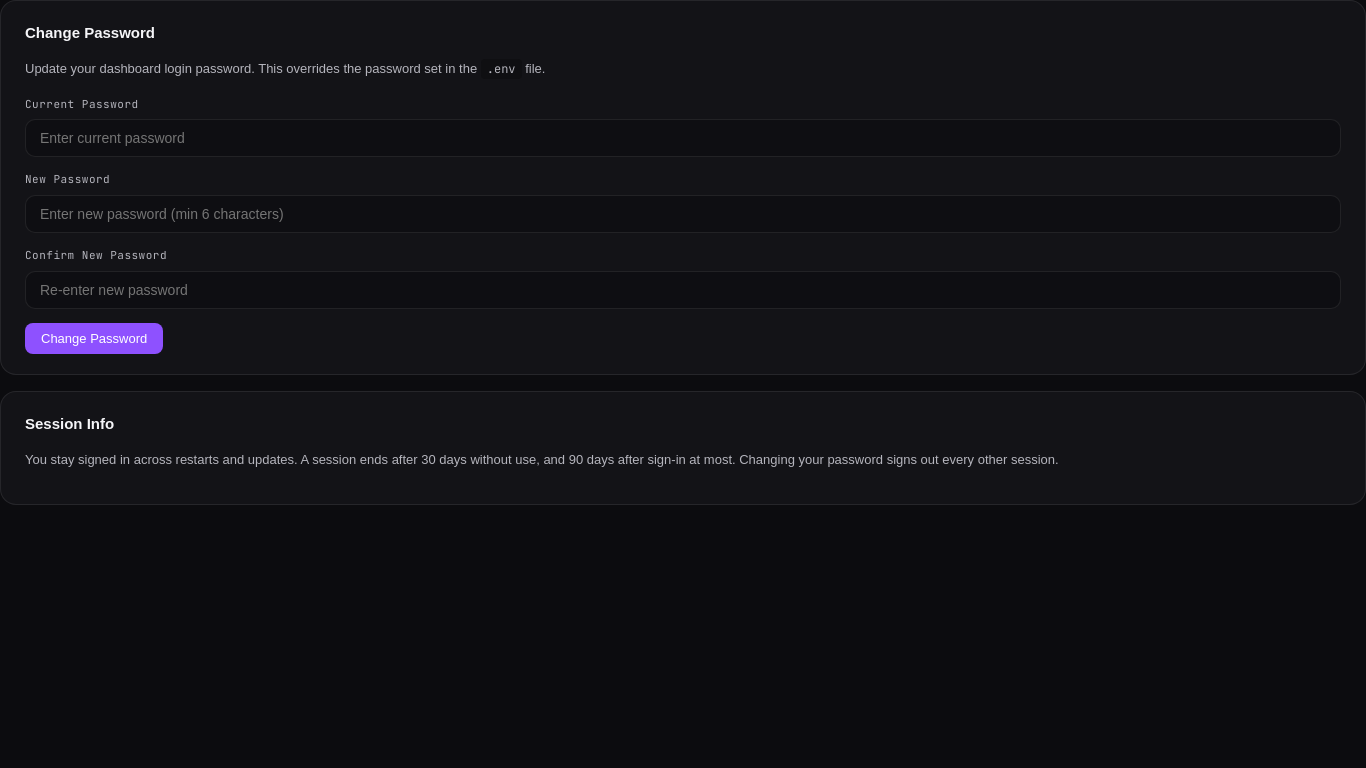
Test: SecurityTab change password › says the status for a refusal that is not JSON, not a parse error
This screenshot has width=1366, height=768.
Type "oldpass1" into the password field labelled "Current Password".
click(683, 138); type("oldpass1")  # box [25, 119, 1341, 157]
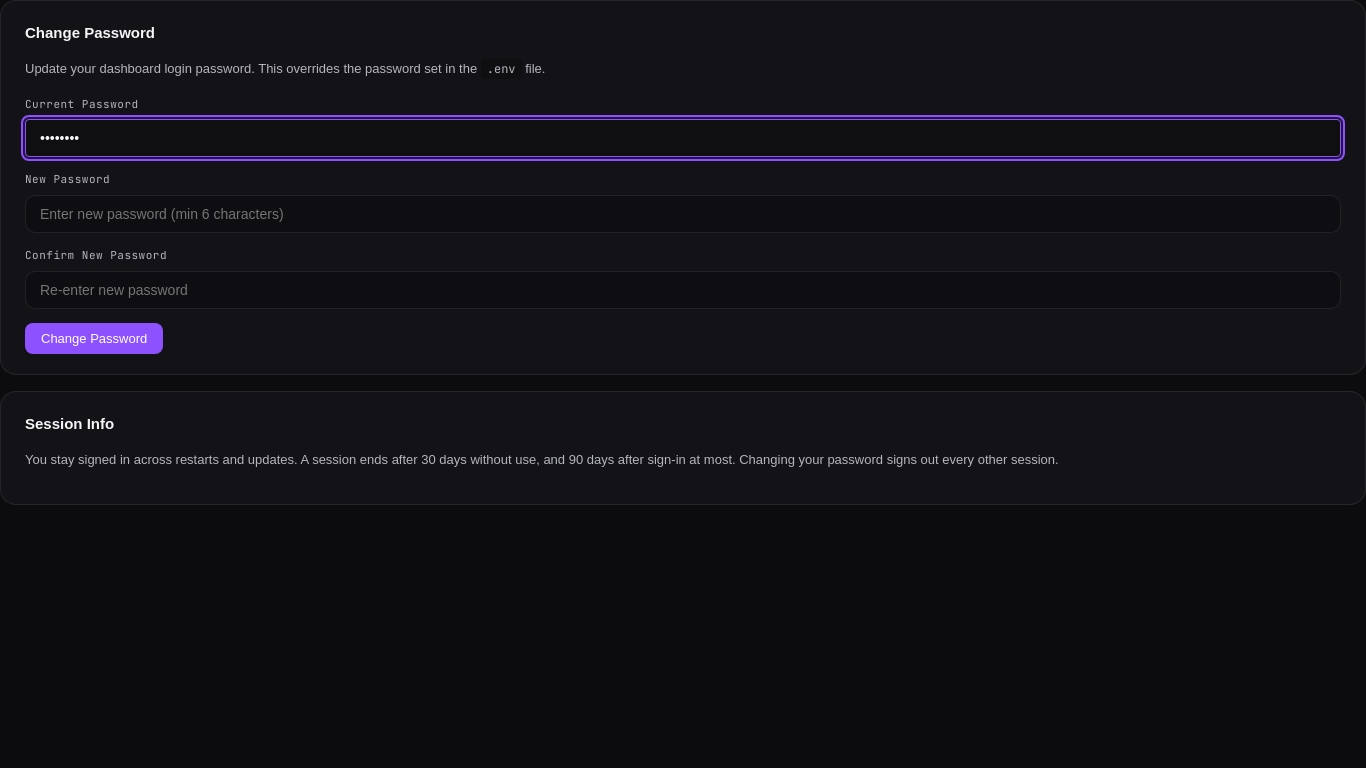
Type "newpass12" into the password field labelled "New Password".
click(683, 214); type("newpass12")  # box [25, 195, 1341, 233]
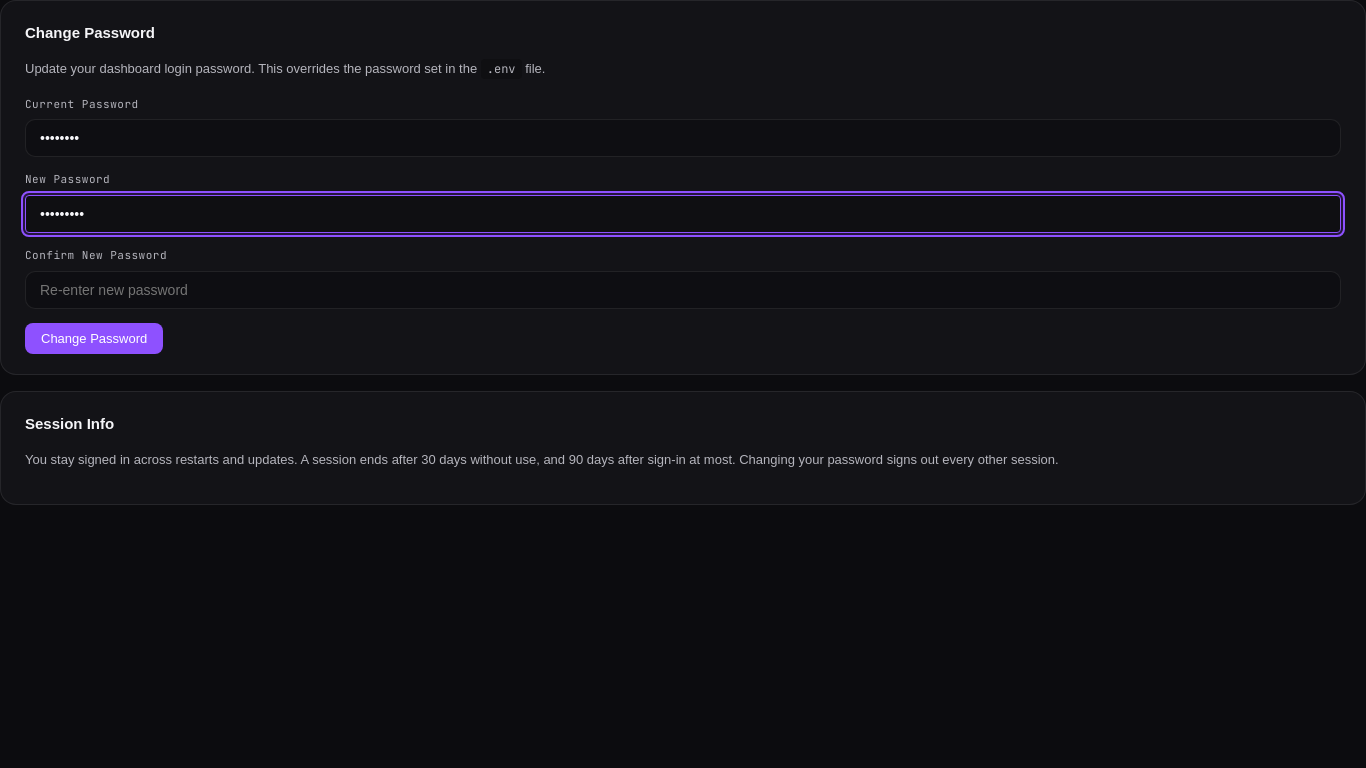
Type "newpass12" into the password field labelled "Confirm New Password".
click(683, 290); type("newpass12")  # box [25, 271, 1341, 309]
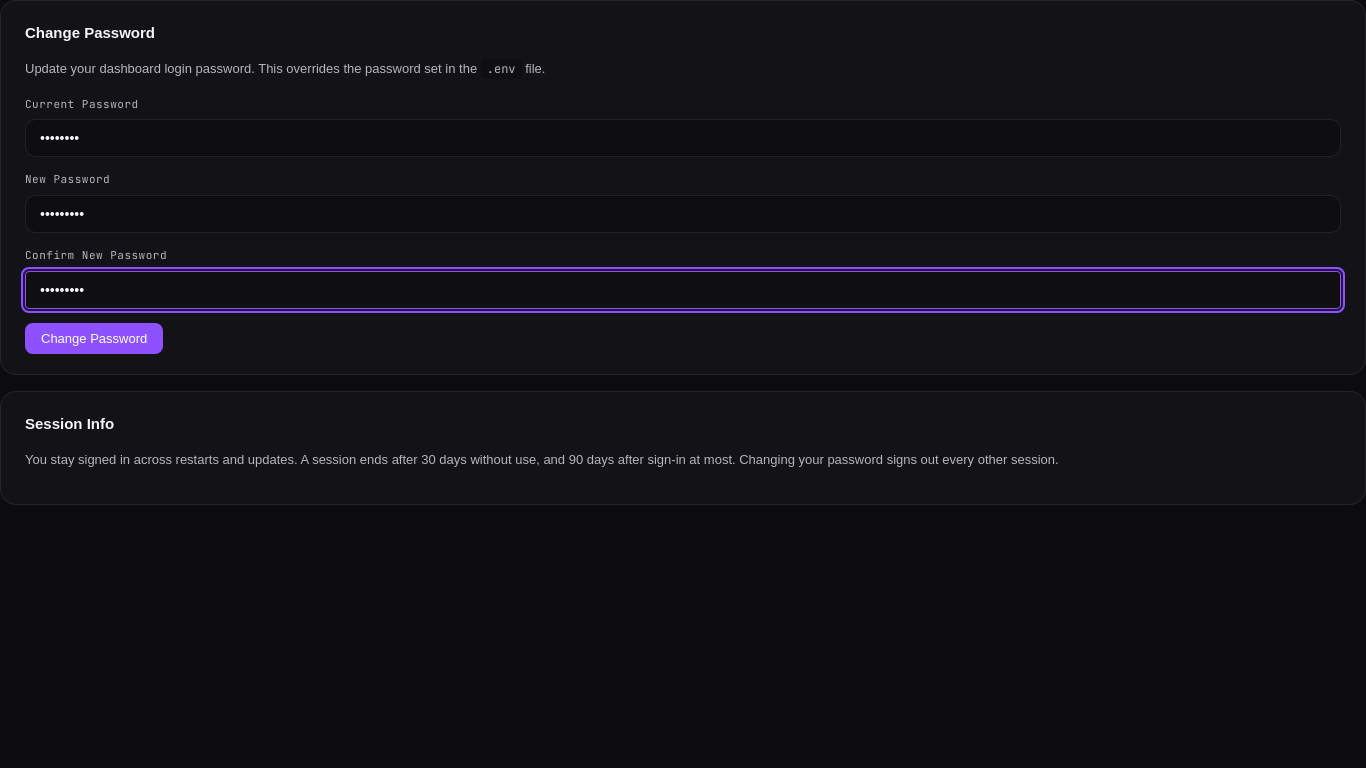
Click the button "Change Password".
click(94, 338)  # box [25, 323, 163, 354]
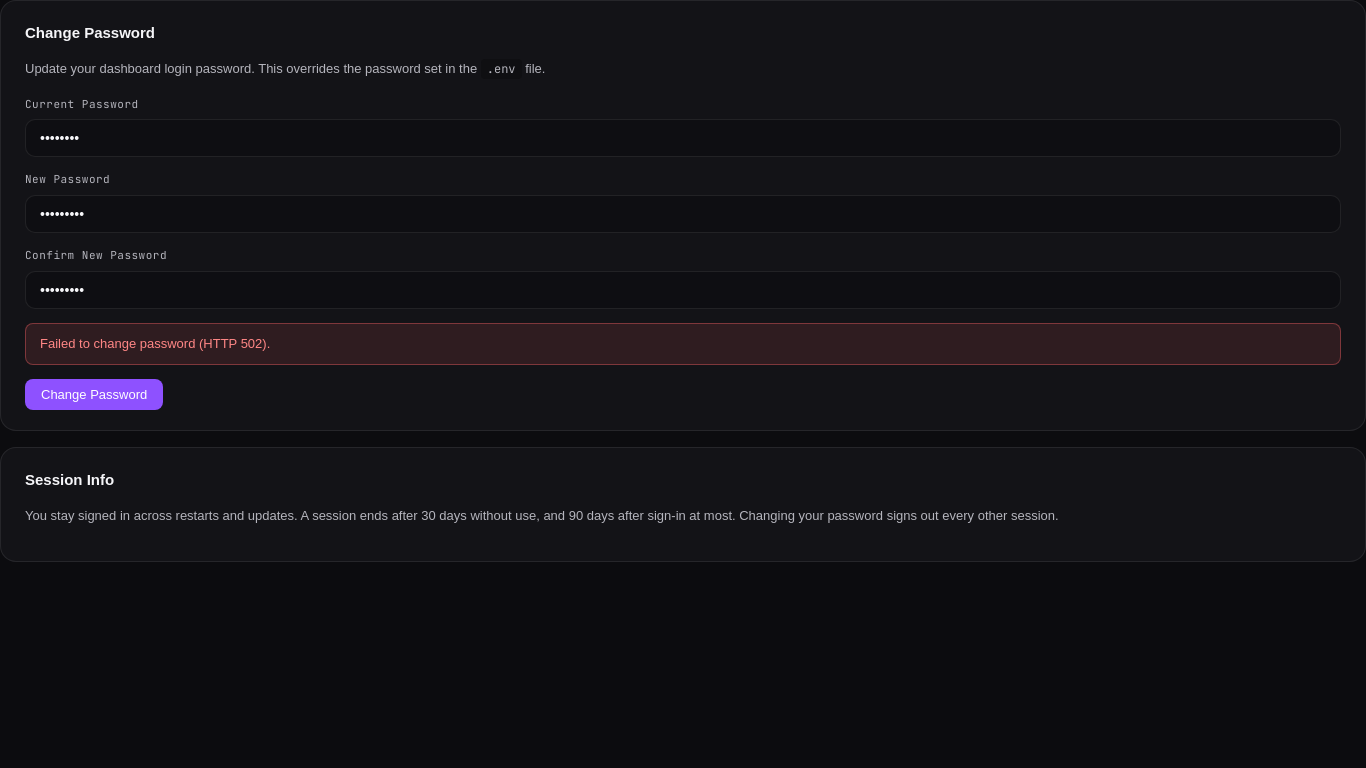
Expected: the text "Failed to change password (HTTP 502)." is shown, [25, 323, 1341, 365]
